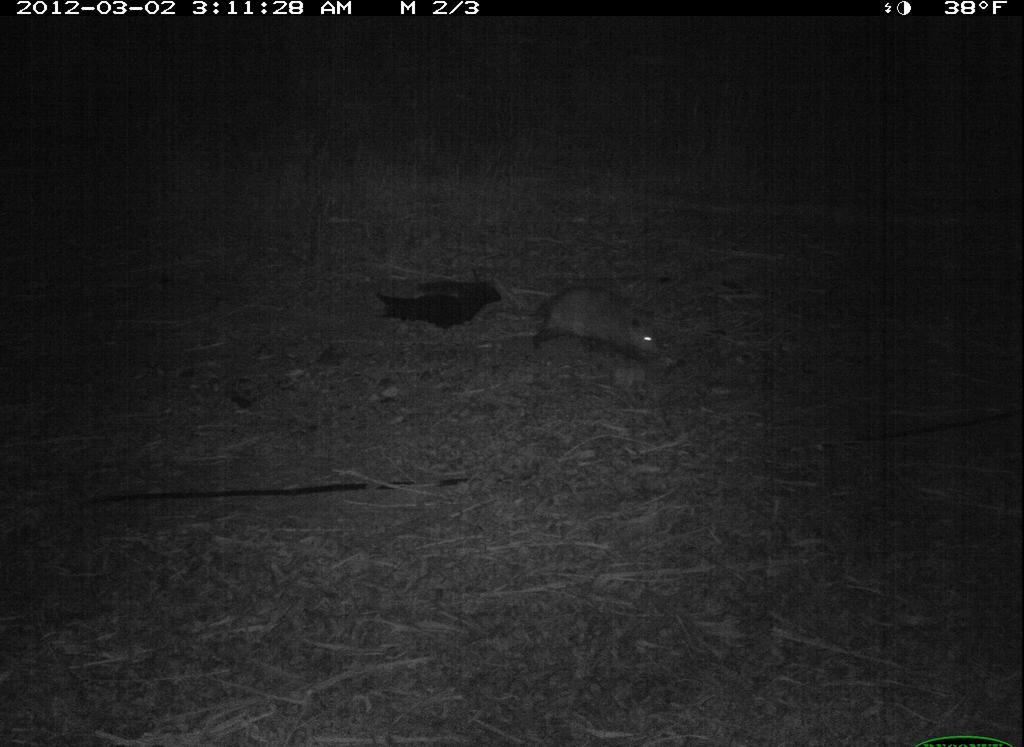opossum: (501, 273, 670, 369)
